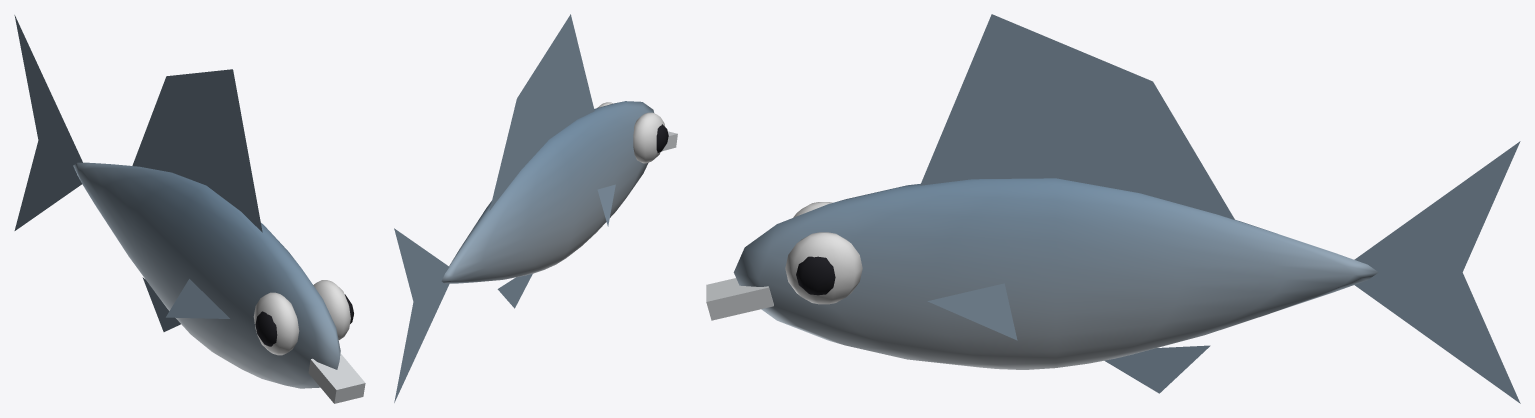
Rendered from tarpun.glb.
3 views of the same model, side by side, from view 1: azimuth 30°, elevation 25°; view 2: azimuth 150°, elevation 25°; view 3: azimuth 270°, elevation 25° (orthographic). The views are drawn at different scales.
Visible parts, largest first — view 1: tarpun; view 2: tarpun; view 3: tarpun.
Part boxes in pixels (x1,y1,x2,y2): tarpun: (14, 15, 365, 403); tarpun: (394, 14, 677, 402); tarpun: (706, 14, 1520, 403).
Size of the model in its own units: 0.246 by 0.6671 by 1.26.
